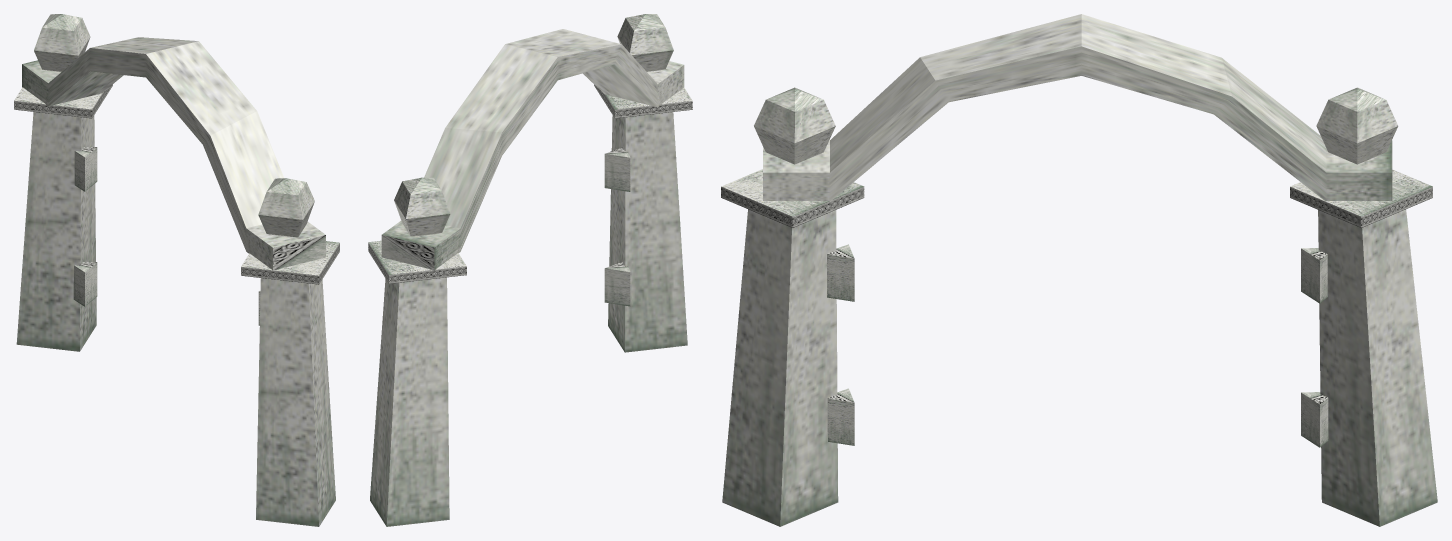
The model's file is Tor_Villa_2612.glb.
3 renders of one model, left to right at view 1: azimuth 30°, elevation 25°; view 2: azimuth 150°, elevation 25°; view 3: azimuth 270°, elevation 25°, orthographic. The views are drawn at different scales.
Visible parts, largest first — view 1: pCylinderShape5, pCylinderShape3, pCylinderShape1, pSphereShape2, pSphereShape1, pCylinderShape7, pCylinderShape6, pPlaneShape177, pPlaneShape178, pPlaneShape173, pPlaneShape172; view 2: pCylinderShape5, pCylinderShape1, pCylinderShape3, pSphereShape1, pSphereShape2, pCylinderShape10, pCylinderShape11, pPlaneShape172, pPlaneShape175, pPlaneShape180, pPlaneShape177; view 3: pCylinderShape5, pCylinderShape1, pCylinderShape3, pSphereShape2, pSphereShape1, pPlaneShape177, pPlaneShape172, pCylinderShape10, pCylinderShape11, pCylinderShape7, pCylinderShape6, pPlaneShape181 (+3 smaller).
Boxes of the visible parts, x1,y1,x2,y2 form: pCylinderShape5: (22,37,325,270); pCylinderShape3: (256,278,335,526); pCylinderShape1: (16,112,96,351); pSphereShape2: (258,178,314,237); pSphereShape1: (34,14,90,72); pCylinderShape7: (73,262,97,306); pCylinderShape6: (74,147,97,191); pPlaneShape177: (241,241,339,275); pPlaneShape178: (241,267,318,284); pPlaneShape173: (14,100,91,118); pPlaneShape172: (14,87,102,109); pCylinderShape5: (381,29,684,270); pCylinderShape1: (370,277,449,526); pCylinderShape3: (608,112,687,352); pSphereShape1: (394,177,450,236); pSphereShape2: (617,14,673,71); pCylinderShape10: (604,147,630,191); pCylinderShape11: (604,262,630,306); pPlaneShape172: (368,240,466,274); pPlaneShape175: (389,266,466,283); pPlaneShape180: (615,101,692,118); pPlaneShape177: (605,87,692,109); pCylinderShape5: (763,14,1392,201); pCylinderShape1: (1318,209,1437,526); pCylinderShape3: (722,209,838,526); pSphereShape2: (754,87,835,164); pSphereShape1: (1316,87,1398,164); pPlaneShape177: (721,169,863,216); pPlaneShape172: (1290,169,1432,216); pCylinderShape10: (827,244,854,301); pCylinderShape11: (827,388,854,445); pCylinderShape7: (1301,392,1328,447); pCylinderShape6: (1301,248,1327,303); pPlaneShape181: (792,187,864,227).
Size of the model in its own units: 0.278 by 1.01 by 1.39.
Materials: 19 (19 with a texture image).
